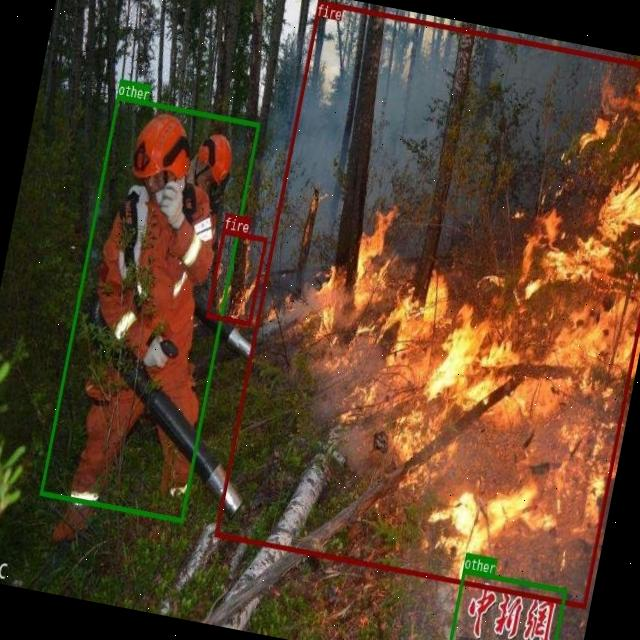fire: (214, 0, 640, 608), (205, 229, 268, 326)
